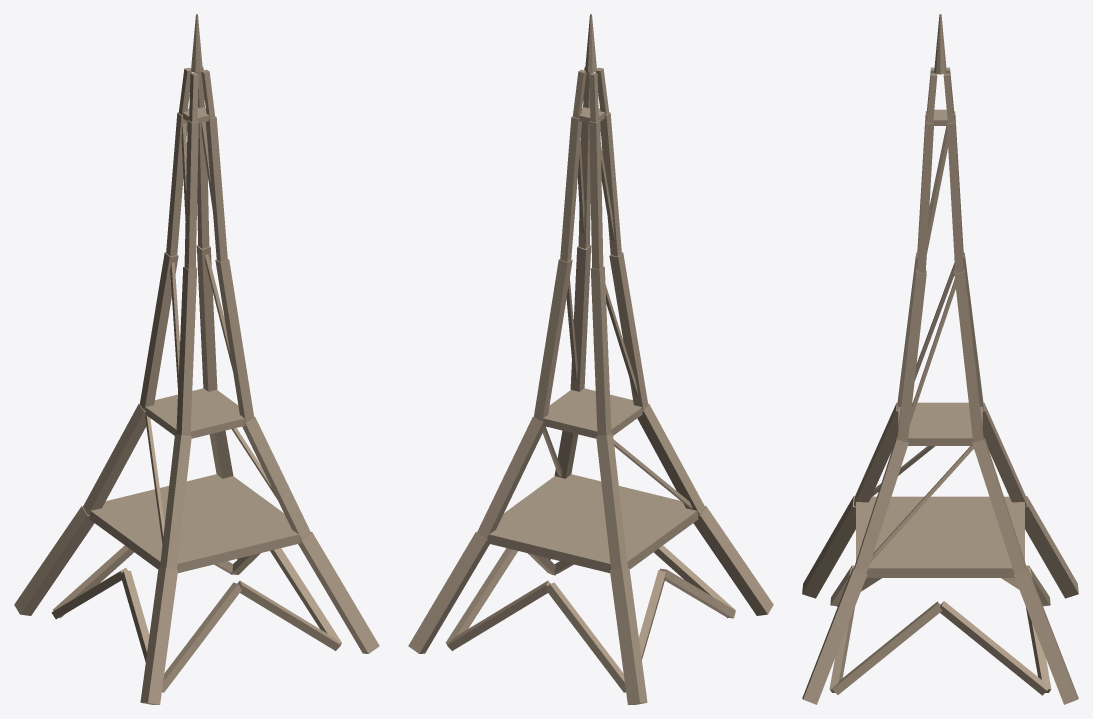
Rendered from eiffel.glb.
The picture shows the model from 3 angles, left to right: view 1: azimuth 30°, elevation 25°; view 2: azimuth 150°, elevation 25°; view 3: azimuth 270°, elevation 25°; orthographic projection. The views are drawn at different scales.
Parts seen in each view (by area): view 1: Cube.020, Cube.021, Cube.015, Cube.005, Cube.010, Cube.017, Cube.016, Cube.007, Cube.012, Cube.006, Cube.011, Cube.002 (+13 smaller); view 2: Cube.020, Cube.021, Cube.010, Cube, Cube.015, Cube.012, Cube.011, Cube.002, Cube.017, Cube.001, Cube.016, Cube.007 (+12 smaller); view 3: Cube.020, Cube.021, Cube, Cube.005, Cube.002, Cube.007, Cube.001, Cube.006, Cube.010, Cube.015, Cube.028, Cube.027 (+13 smaller).
Part boxes in pixels (x1=…): Cube.020: x1=89, y1=474, x2=300, y2=573; Cube.021: x1=145, y1=388, x2=245, y2=438; Cube.015: x1=140, y1=567, x2=177, y2=704; Cube.005: x1=298, y1=532, x2=379, y2=653; Cube.010: x1=14, y1=506, x2=94, y2=615; Cube.017: x1=176, y1=266, x2=197, y2=435; Cube.016: x1=160, y1=434, x2=191, y2=569; Cube.007: x1=215, y1=259, x2=253, y2=422; Cube.012: x1=140, y1=252, x2=178, y2=410; Cube.006: x1=242, y1=416, x2=310, y2=539; Cube.011: x1=83, y1=403, x2=146, y2=515; Cube.002: x1=196, y1=245, x2=217, y2=391; Cube.020: x1=487, y1=474, x2=698, y2=573; Cube.021: x1=542, y1=388, x2=642, y2=438; Cube.010: x1=610, y1=567, x2=647, y2=704; Cube: x1=408, y1=532, x2=489, y2=653; Cube.015: x1=693, y1=506, x2=773, y2=615; Cube.012: x1=590, y1=266, x2=611, y2=435; Cube.011: x1=596, y1=434, x2=627, y2=569; Cube.002: x1=534, y1=259, x2=572, y2=422; Cube.017: x1=609, y1=252, x2=647, y2=410; Cube.001: x1=477, y1=416, x2=545, y2=539; Cube.016: x1=637, y1=403, x2=704, y2=515; Cube.007: x1=570, y1=245, x2=591, y2=391; Cube.020: x1=856, y1=496, x2=1024, y2=577; Cube.021: x1=898, y1=402, x2=982, y2=445; Cube: x1=1013, y1=568, x2=1078, y2=704; Cube.005: x1=802, y1=568, x2=867, y2=704; Cube.002: x1=954, y1=269, x2=983, y2=442; Cube.007: x1=897, y1=269, x2=926, y2=442; Cube.001: x1=972, y1=438, x2=1026, y2=573; Cube.006: x1=854, y1=438, x2=908, y2=573; Cube.010: x1=1025, y1=496, x2=1078, y2=598; Cube.015: x1=802, y1=496, x2=855, y2=598; Cube.028: x1=940, y1=601, x2=1047, y2=695; Cube.027: x1=832, y1=601, x2=942, y2=694.
Bounding box in the file's own units: 131 × 333 × 131.
